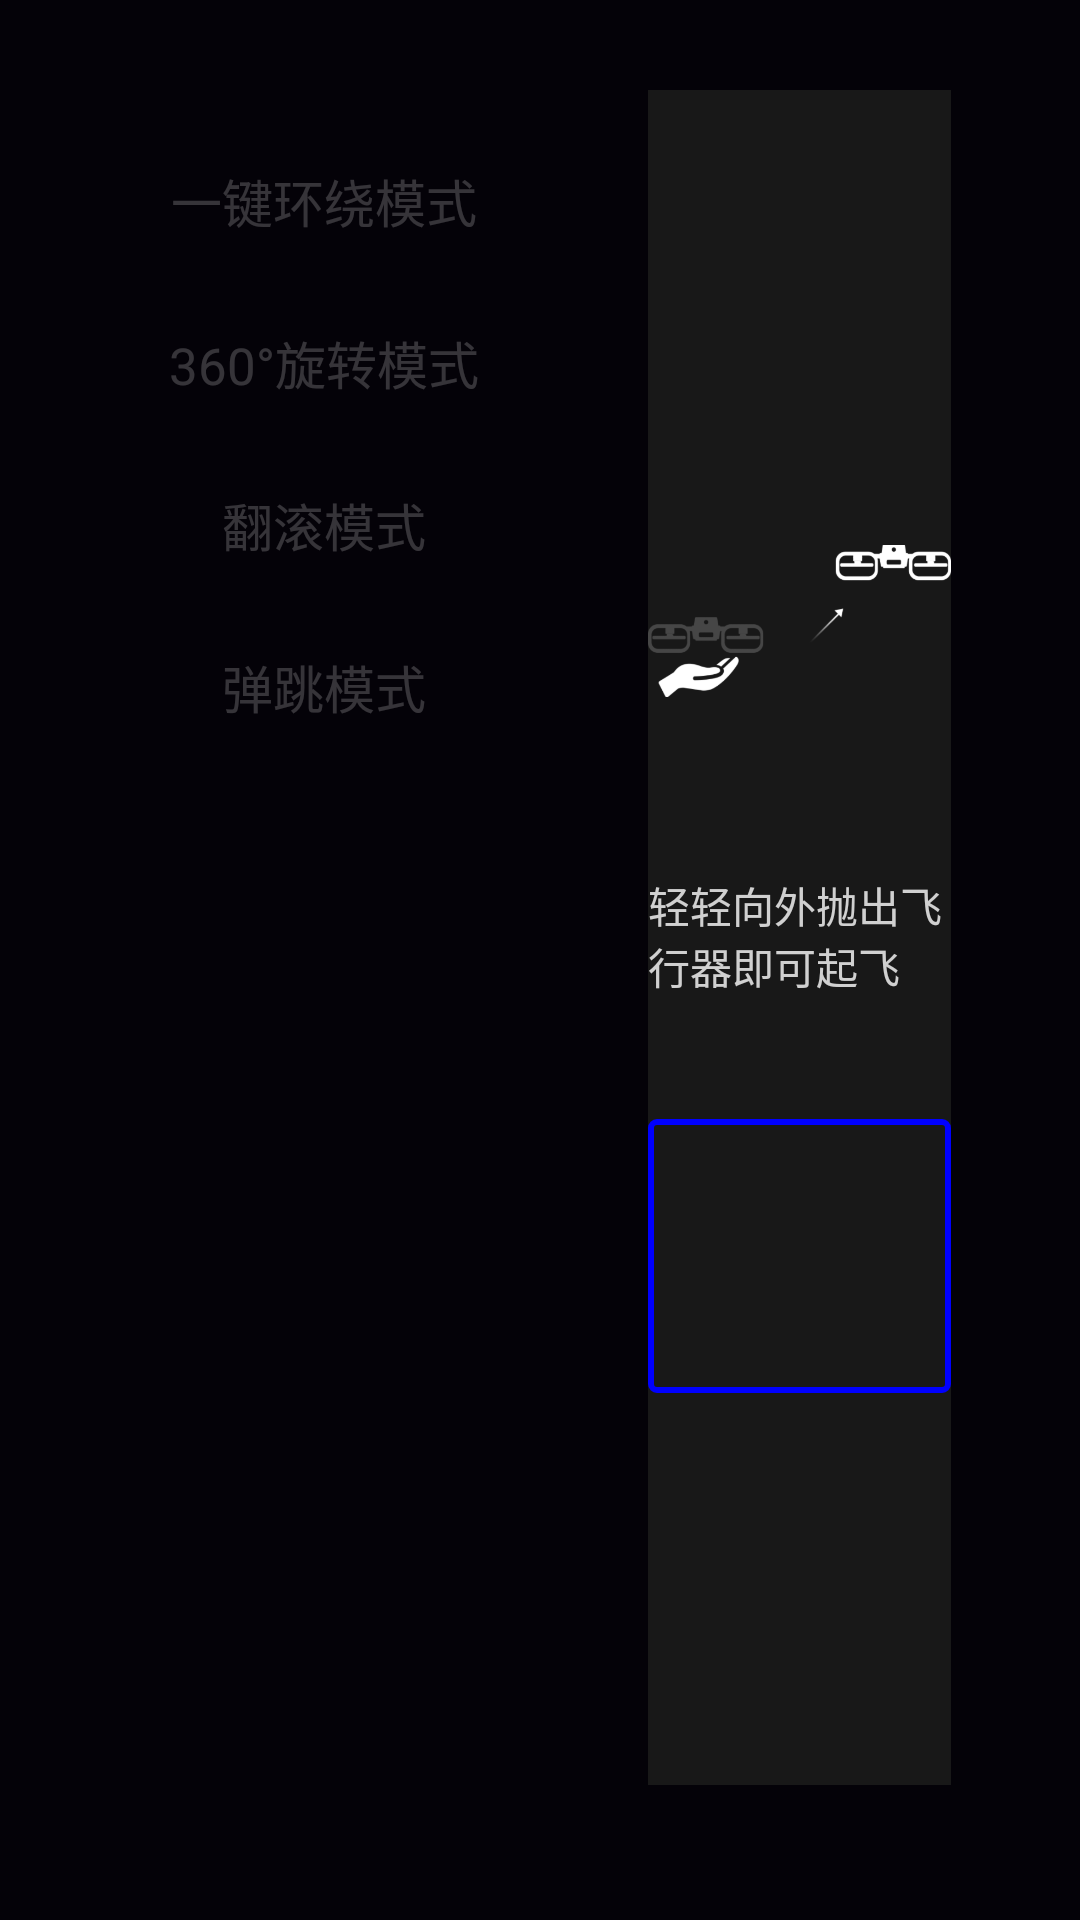

Icons on this 1080 × 1920 Android screen, each with the point to tap as (x,y):
mode paofei: (799,621)
